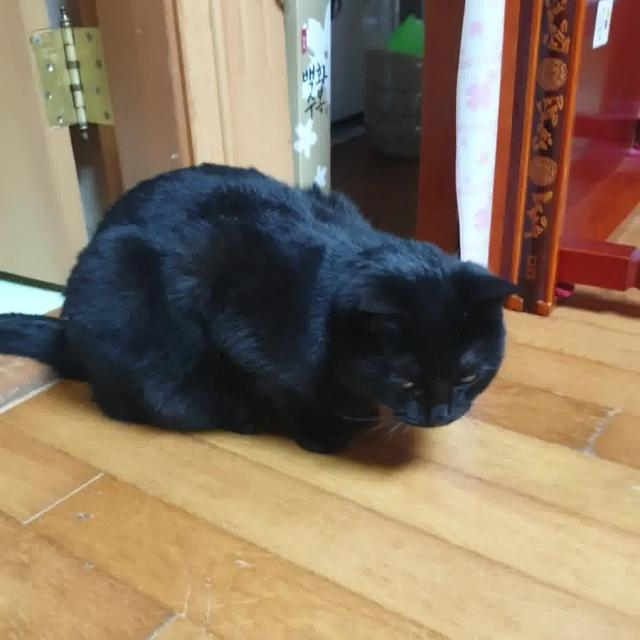cat: (0, 159, 531, 470)
